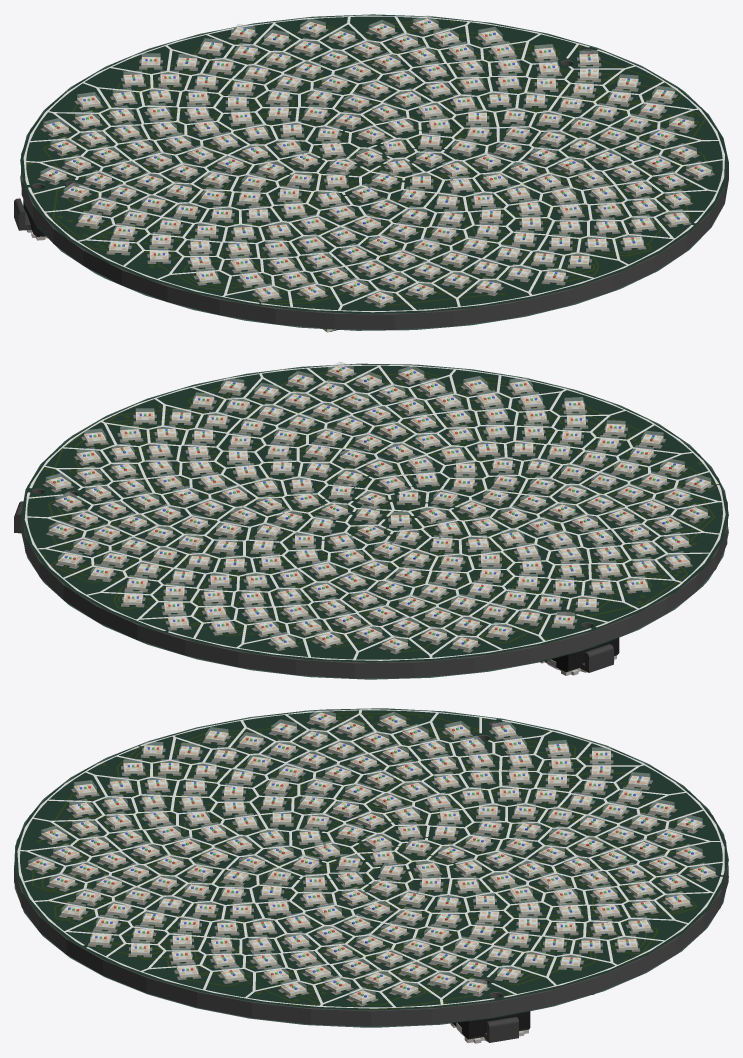
Rendered from board.glb.
3 views of the same model, one above another, from view 1: azimuth 30°, elevation 25°; view 2: azimuth 150°, elevation 25°; view 3: azimuth 270°, elevation 25° (orthographic).
Visible parts, largest first — view 1: round-pendant_soldermask (×2), round-pendant_PCB, round-pendant_silkscreen, round-pendant_pad, round-pendant_copper, SW-SMD_EVQP7C01P-L3.6-W3.5-H1.4-P3.6-LS4.7; view 2: round-pendant_soldermask (×2), round-pendant_PCB, round-pendant_silkscreen, round-pendant_pad, round-pendant_copper, SW-SMD_EVQP7C01P-L3.6-W3.5-H1.4-P3.6-LS4.7; view 3: round-pendant_soldermask (×2), round-pendant_PCB, round-pendant_silkscreen, round-pendant_pad, round-pendant_copper, SW-SMD_EVQP7C01P-L3.6-W3.5-H1.4-P3.6-LS4.7.
Part boxes in pixels (bbox=[...]): round-pendant_soldermask (×2): bbox=[20, 14, 728, 330]; round-pendant_PCB: bbox=[21, 17, 728, 329]; round-pendant_silkscreen: bbox=[23, 15, 724, 312]; round-pendant_pad: bbox=[37, 26, 714, 307]; round-pendant_copper: bbox=[27, 21, 706, 305]; SW-SMD_EVQP7C01P-L3.6-W3.5-H1.4-P3.6-LS4.7: bbox=[14, 198, 47, 240]; round-pendant_soldermask (×2): bbox=[21, 363, 728, 679]; round-pendant_PCB: bbox=[21, 366, 727, 678]; round-pendant_silkscreen: bbox=[24, 364, 725, 660]; round-pendant_pad: bbox=[43, 372, 713, 654]; round-pendant_copper: bbox=[44, 372, 716, 651]; SW-SMD_EVQP7C01P-L3.6-W3.5-H1.4-P3.6-LS4.7: bbox=[540, 638, 619, 675]; round-pendant_soldermask (×2): bbox=[14, 708, 728, 1027]; round-pendant_PCB: bbox=[14, 711, 728, 1026]; round-pendant_silkscreen: bbox=[17, 709, 724, 1008]; round-pendant_pad: bbox=[25, 720, 718, 1006]; round-pendant_copper: bbox=[32, 713, 696, 1008]; SW-SMD_EVQP7C01P-L3.6-W3.5-H1.4-P3.6-LS4.7: bbox=[450, 1011, 530, 1043].
Size of the model in its own units: 0.038 by 0.00283 by 0.038.
